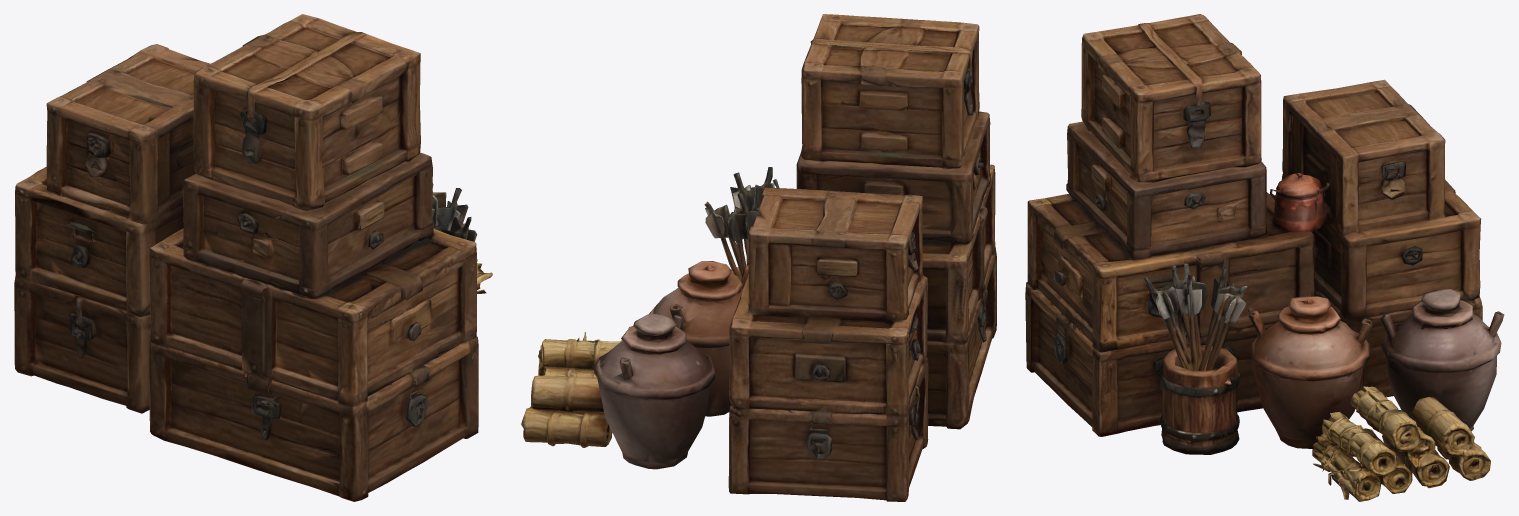
File: supplies-high.glb
The picture shows the model from 3 angles, left to right: view 1: azimuth 30°, elevation 25°; view 2: azimuth 150°, elevation 25°; view 3: azimuth 270°, elevation 25°; orthographic projection. The views are drawn at different scales.
Bounding box in the file's own units: 0.9355 × 0.7578 × 0.9955.
Materials: 1 (1 with a texture image).
